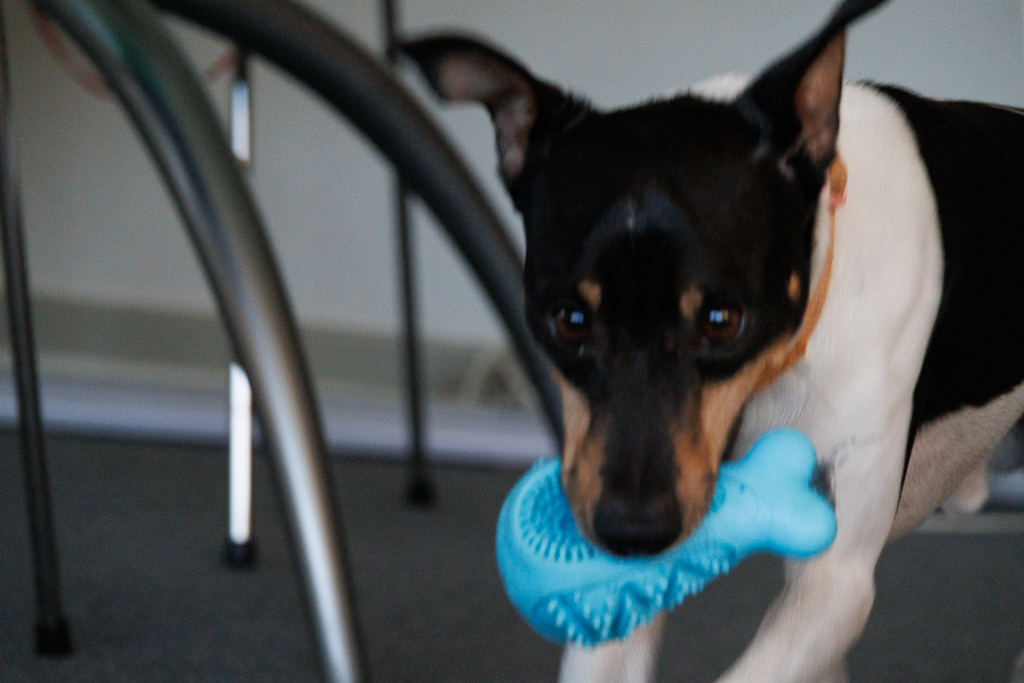Dog: (382, 0, 1024, 683)
